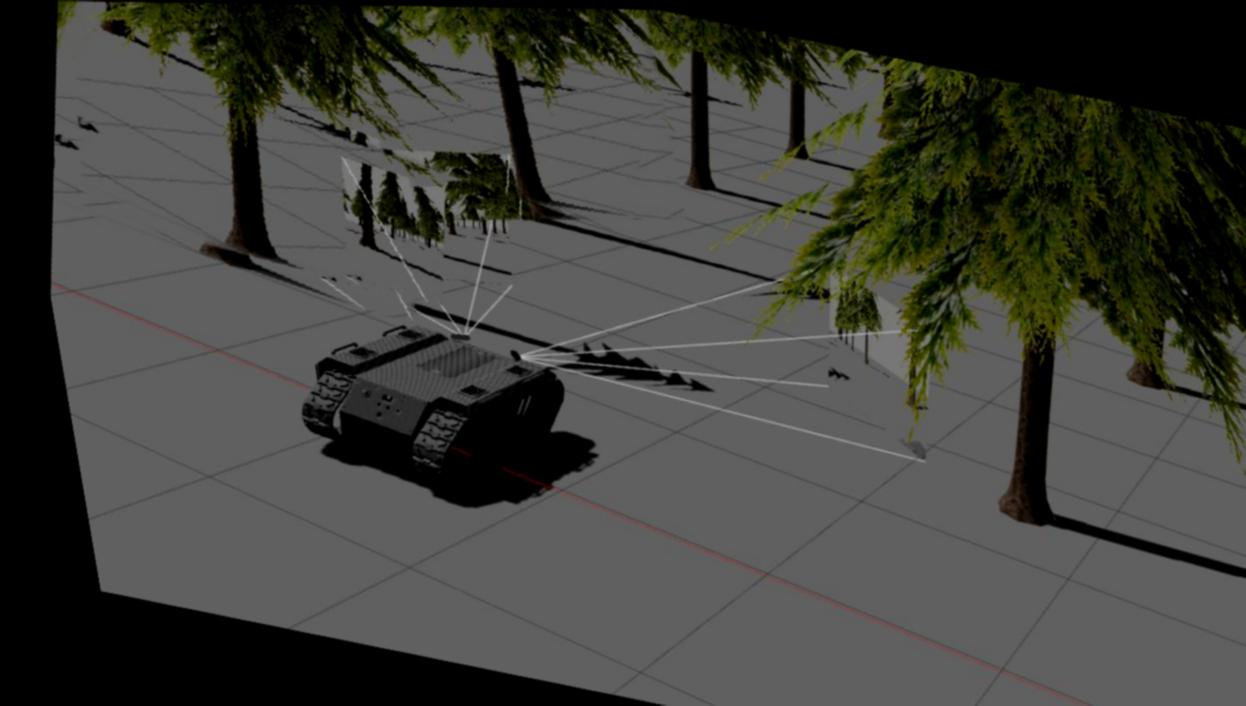tree_gazebo: (97, 1, 443, 259), (391, 5, 649, 206)
